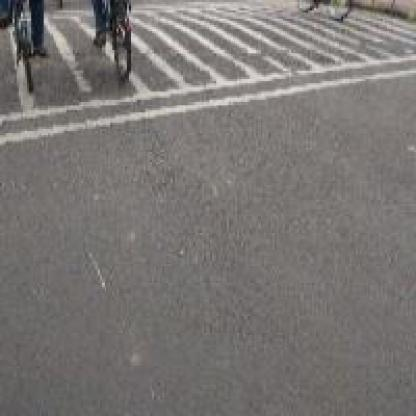Speed Bump: (133, 0, 291, 125)
